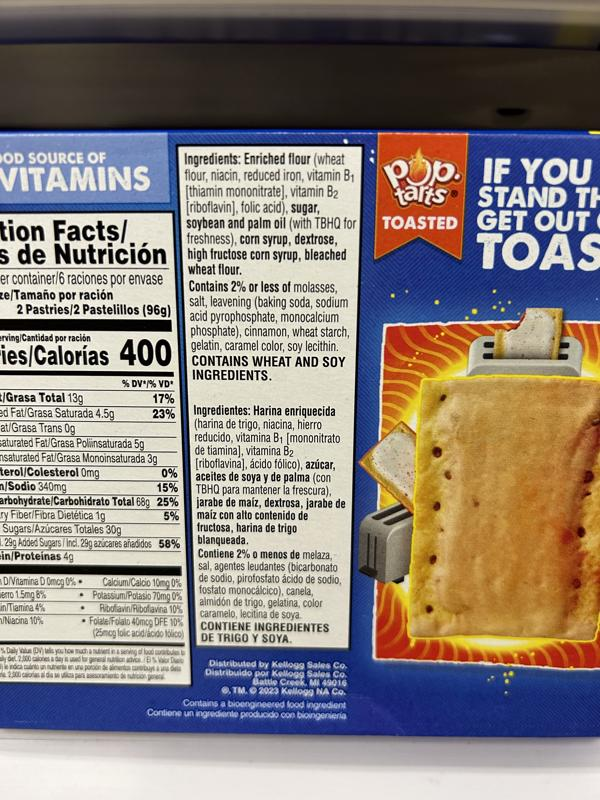ingredients: (182, 151, 358, 277)
